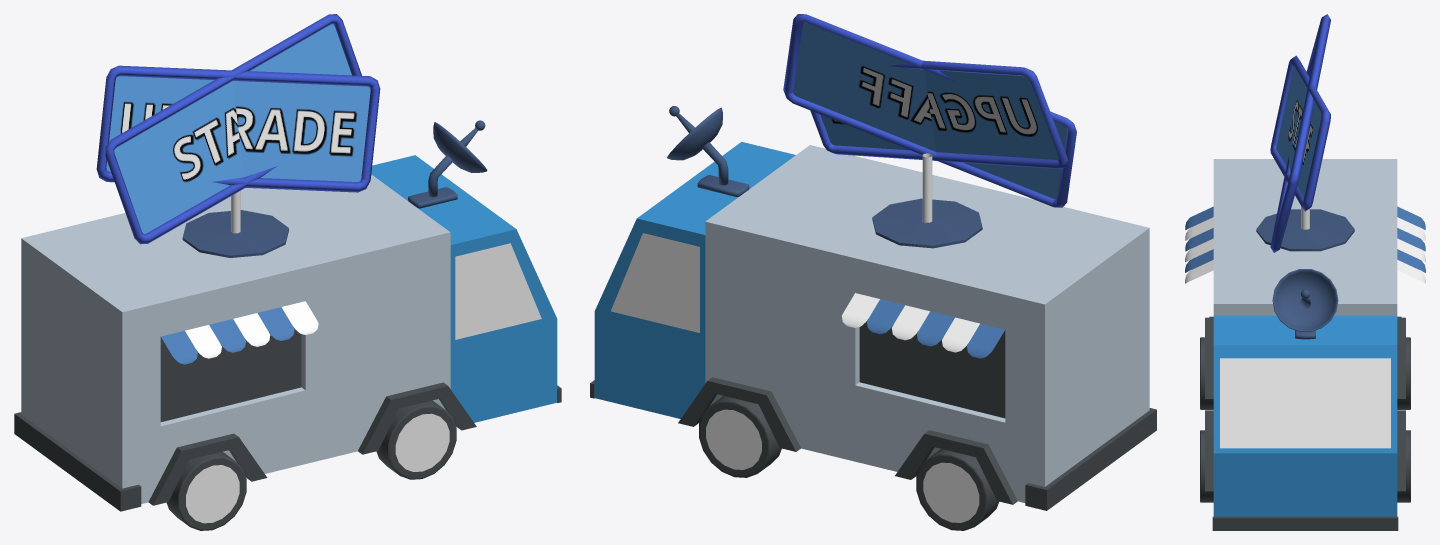
File: Sell Car.fbx
3 renders of one model, left to right at view 1: azimuth 30°, elevation 25°; view 2: azimuth 150°, elevation 25°; view 3: azimuth 270°, elevation 25°, orthographic. The views are drawn at different scales.
Visible parts, largest first — view 1: Sell Car, Upgrade, Staff, Sell Wheels; view 2: Sell Car, Staff, Upgrade, Sell Wheels; view 3: Sell Car, Staff, Upgrade, Sell Wheels.
Part boxes in pixels (left/top/right/bottom): Sell Car: left=14, top=120, right=561, bottom=511; Upgrade: left=96, top=65, right=380, bottom=257; Staff: left=105, top=14, right=361, bottom=257; Sell Wheels: left=166, top=400, right=456, bottom=530; Sell Car: left=590, top=106, right=1156, bottom=510; Staff: left=783, top=14, right=1076, bottom=248; Upgrade: left=810, top=60, right=1067, bottom=248; Sell Wheels: left=699, top=396, right=998, bottom=530; Sell Car: left=1185, top=159, right=1425, bottom=530; Staff: left=1256, top=55, right=1330, bottom=247; Upgrade: left=1256, top=14, right=1354, bottom=252; Sell Wheels: left=1200, top=337, right=1410, bottom=502.
Bounding box in the file's own units: 5.05 × 4.57 × 2.62.
